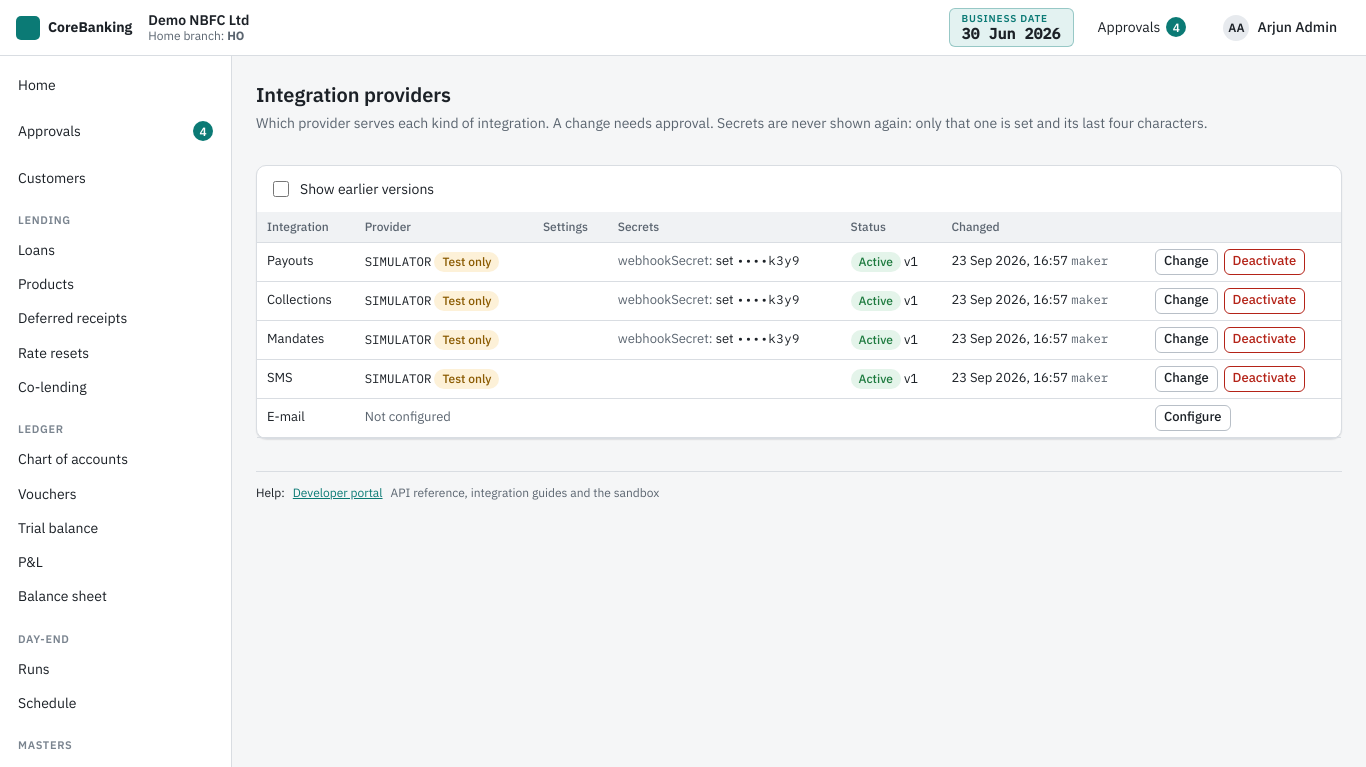
Test case: providers › types a secret into a password field, sends it once and clears it; the approval never carries it
Click the button with aria-label "Change SMS provider".
click(1186, 379)  # box [1155,366,1218,392]
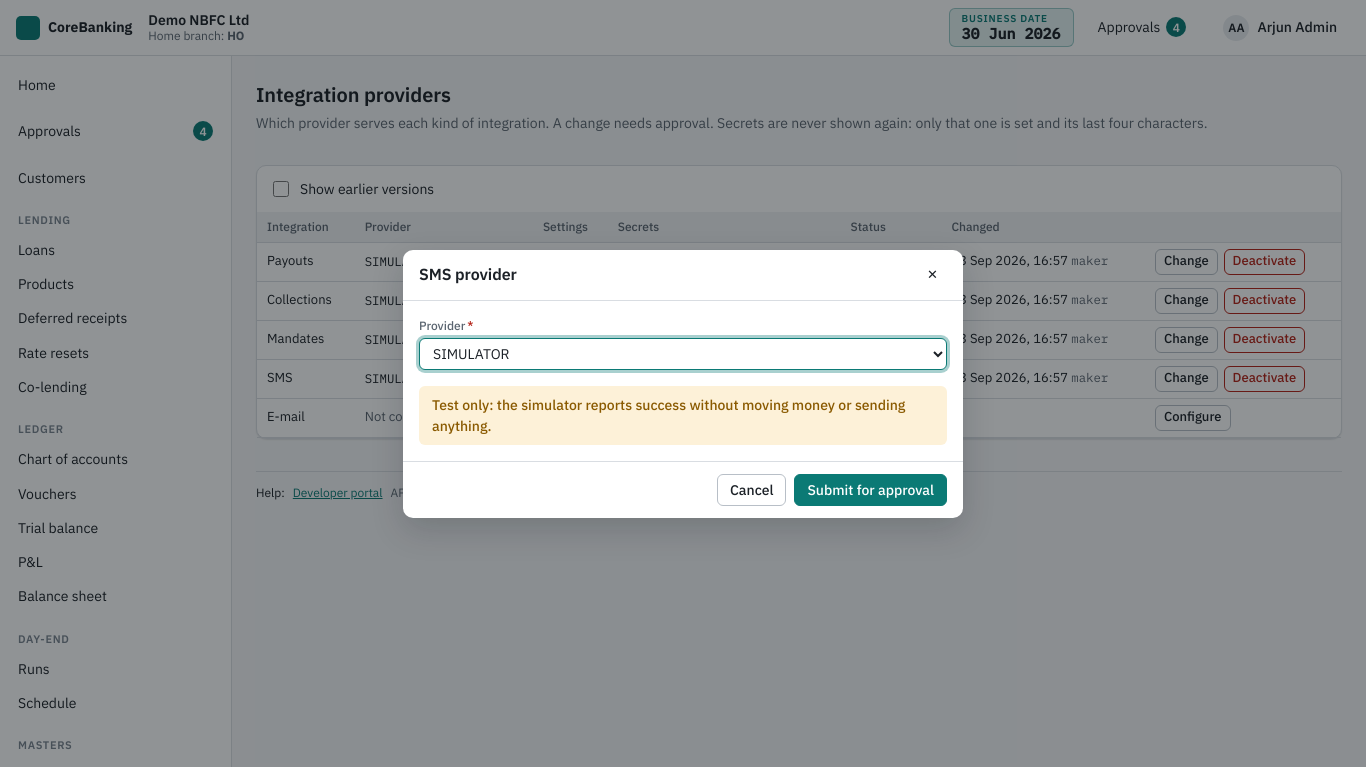
Select "GENERIC_HTTP" in the dropdown labelled "Provider*" at (683, 354), box [419,338,947,370]
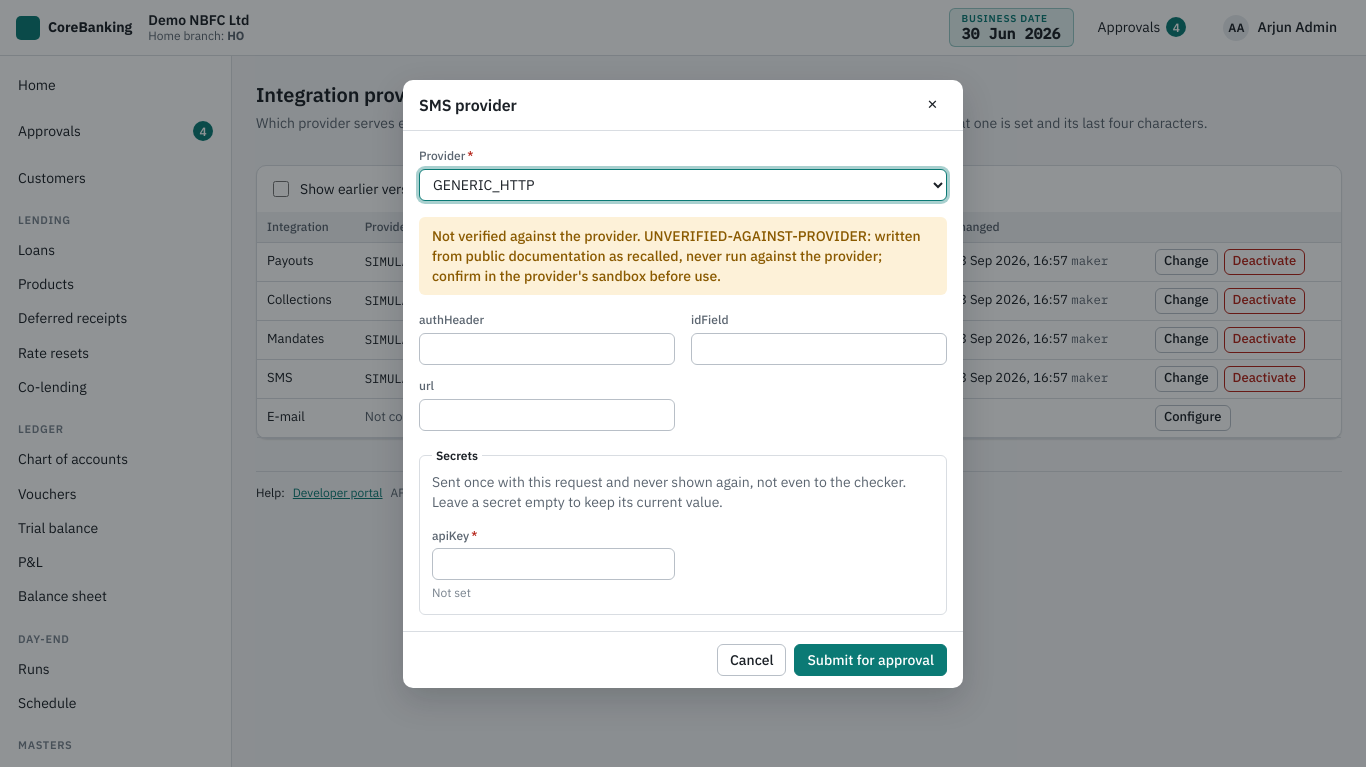
expect the text "Not verified against the provider" is shown: met, box [432,226,644,244]
Click the button "Submit for approval".
click(871, 660)  # box [794,644,947,676]
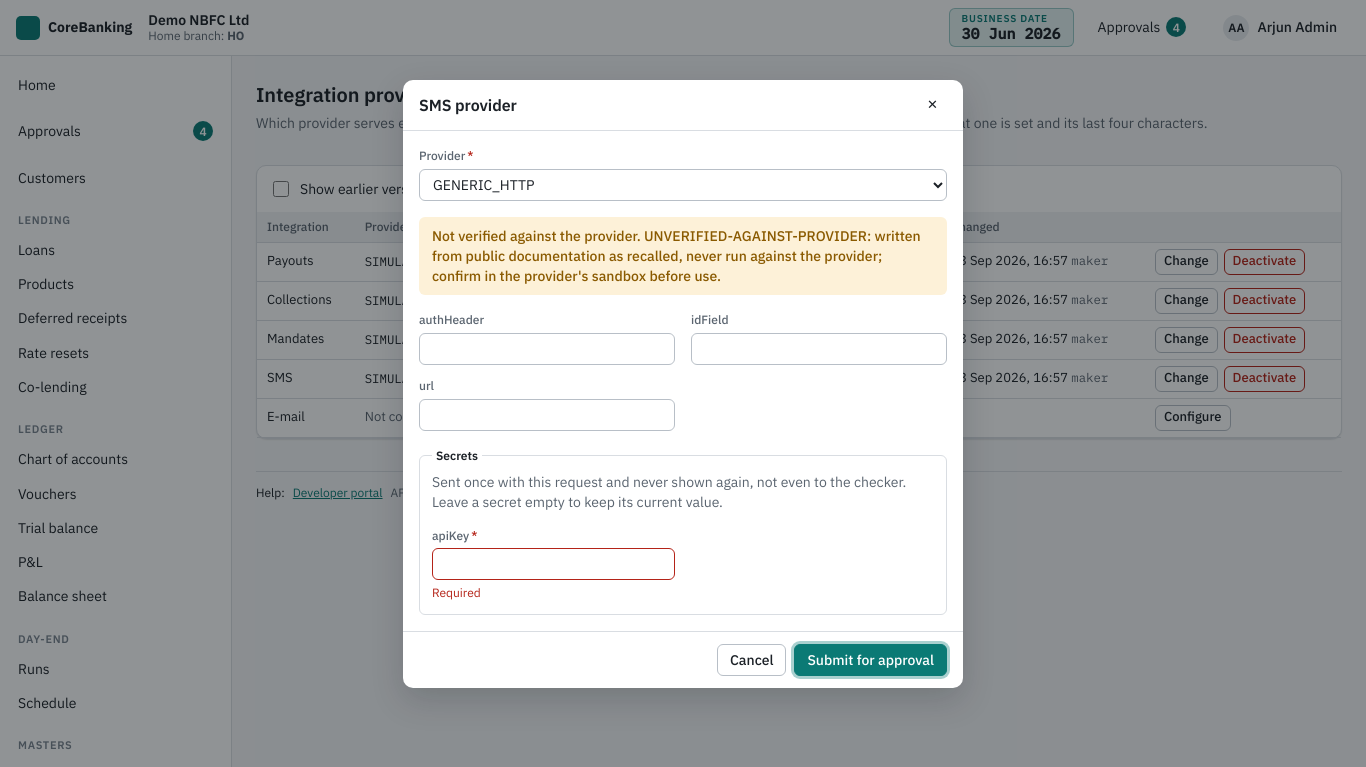
expect the text "Required" is shown: met, box [432,586,481,600]
Type "https://sms.partner.example/send" into the field labelled "url".
click(547, 415); type("https://sms.partner.example/send")  # box [419,398,675,431]
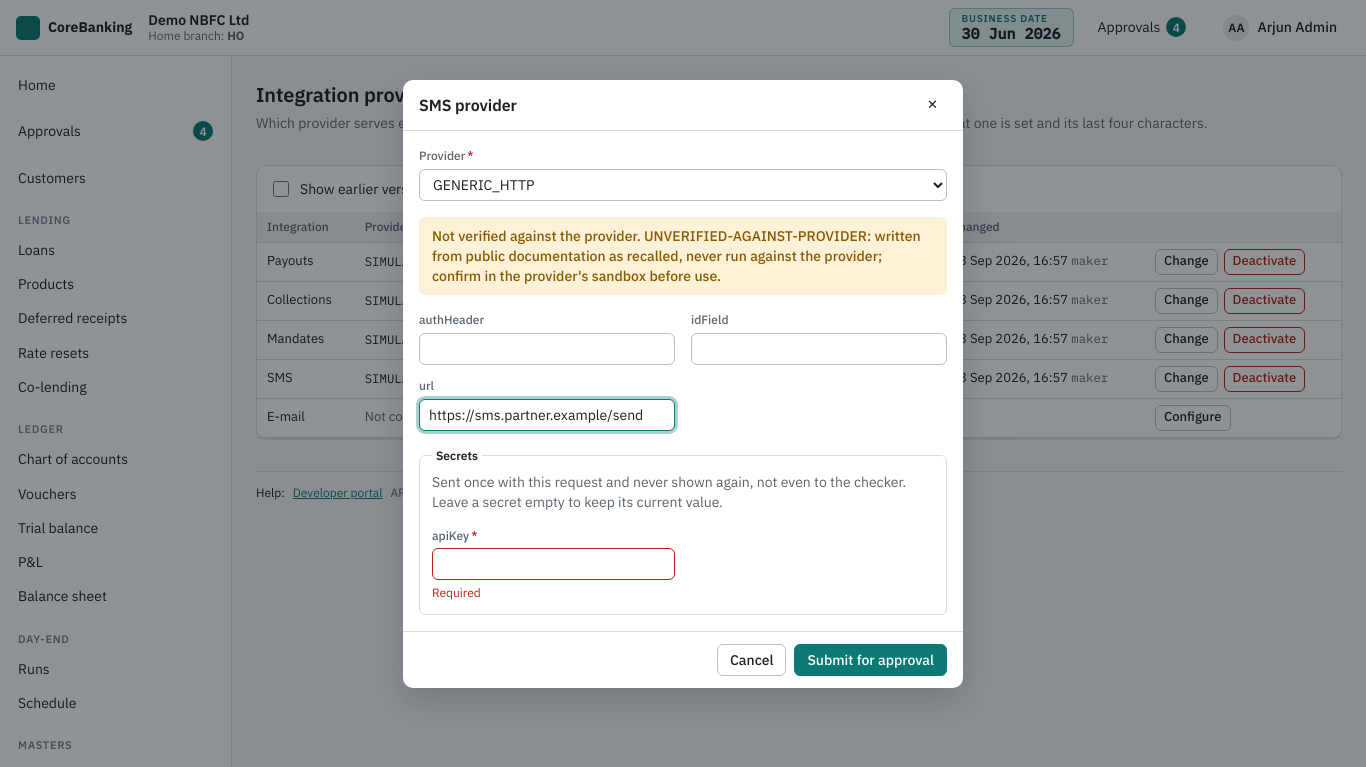
Type "sk-CLAUDE-TEST-typed-secret-77aa" into the password field labelled "apiKey*".
click(554, 564); type("sk-CLAUDE-TEST-typed-secret-77aa")  # box [432,548,675,580]
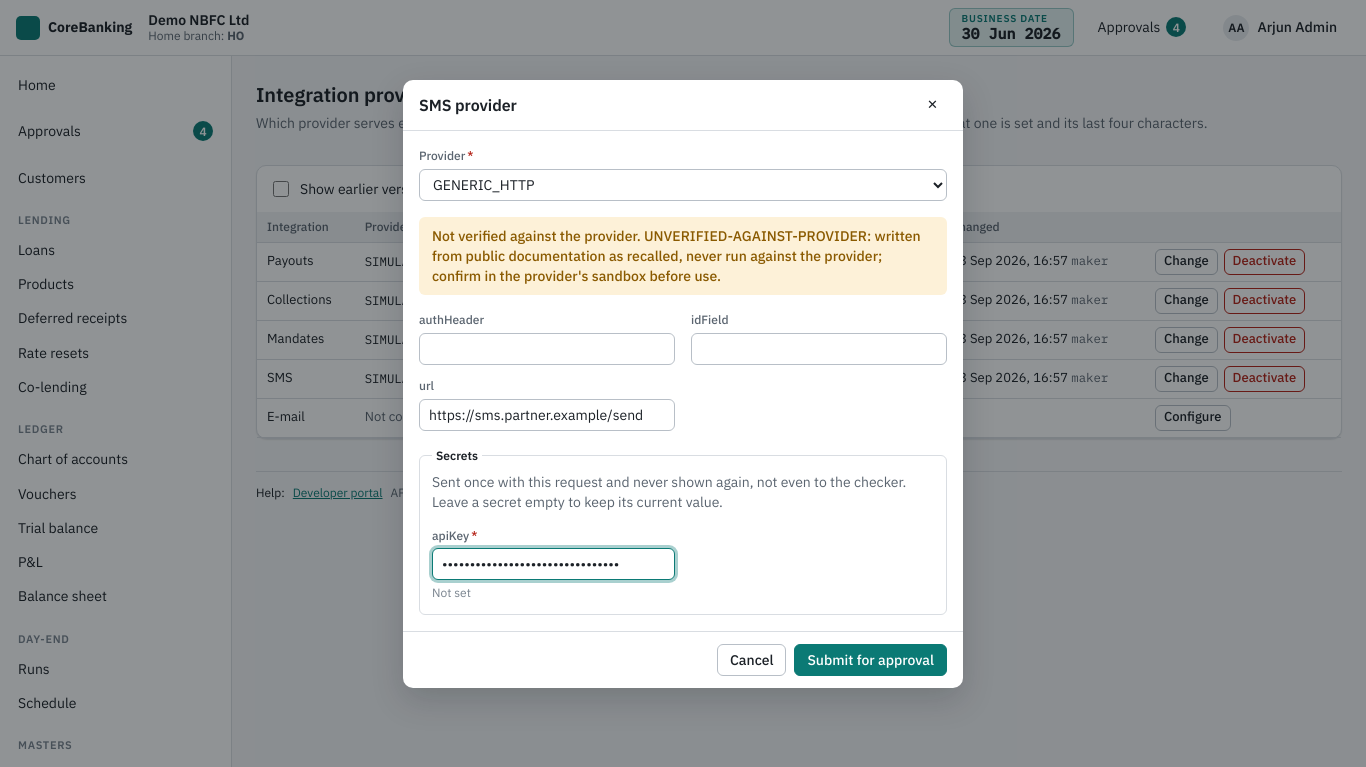
Click the button "Submit for approval".
click(871, 660)  # box [794,644,947,676]
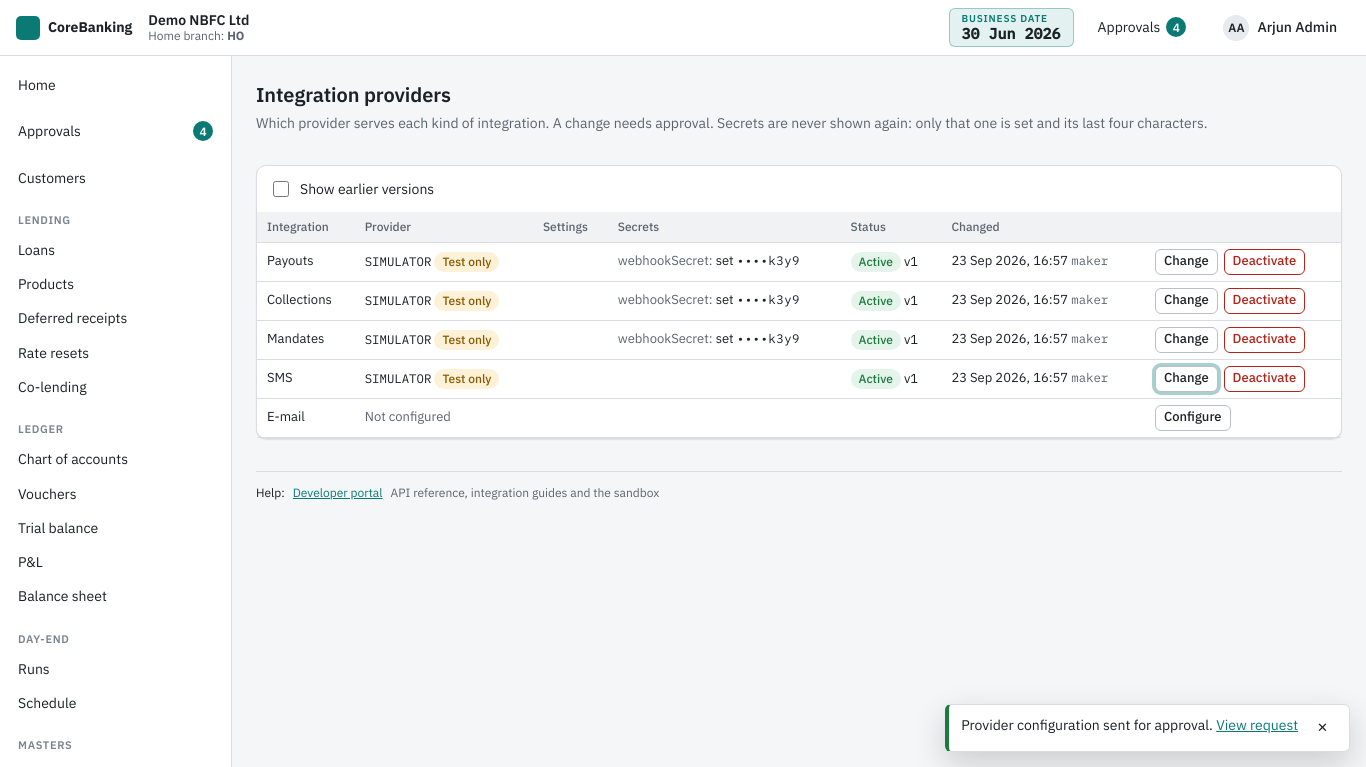
expect the text "Provider configuration sent for approval." is shown: met, box [961,716,1213,734]
